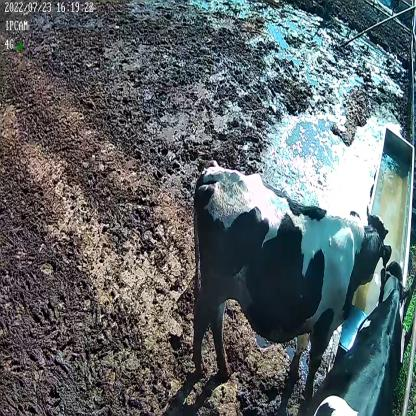cow: (190, 164, 392, 404), (296, 257, 414, 416)
